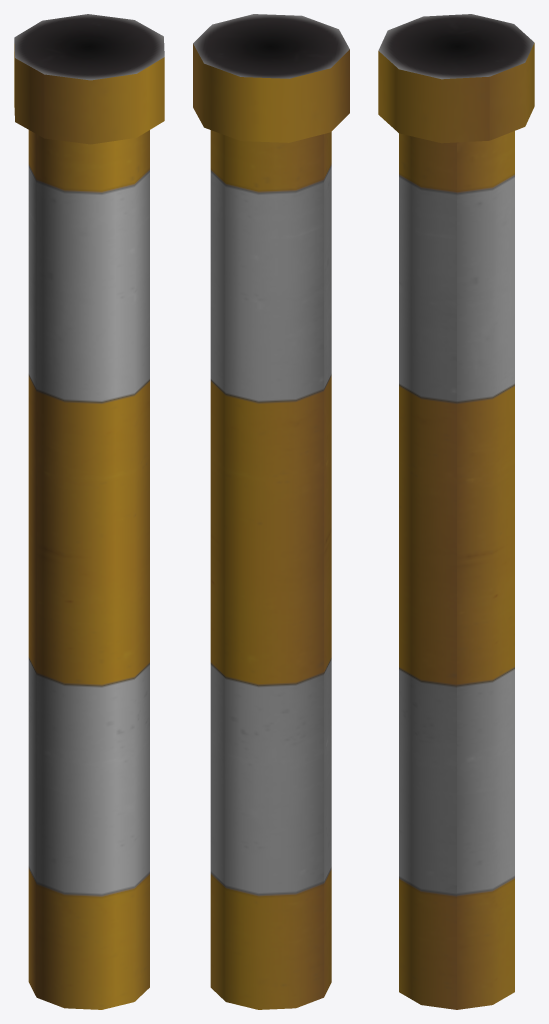
Rendered from Pipe_Vert_02.FBX.
3 renders of one model, left to right at view 1: azimuth 30°, elevation 25°; view 2: azimuth 150°, elevation 25°; view 3: azimuth 270°, elevation 25°, orthographic.
Visible parts, largest first — view 1: Pipe_Vert_02; view 2: Pipe_Vert_02; view 3: Pipe_Vert_02.
Part boxes in pixels (x1,y1,x2,y2): Pipe_Vert_02: (14, 14, 164, 1009); Pipe_Vert_02: (193, 14, 349, 1009); Pipe_Vert_02: (378, 14, 534, 1009).
Size of the model in its own units: 20.98 by 141 by 21.22.
